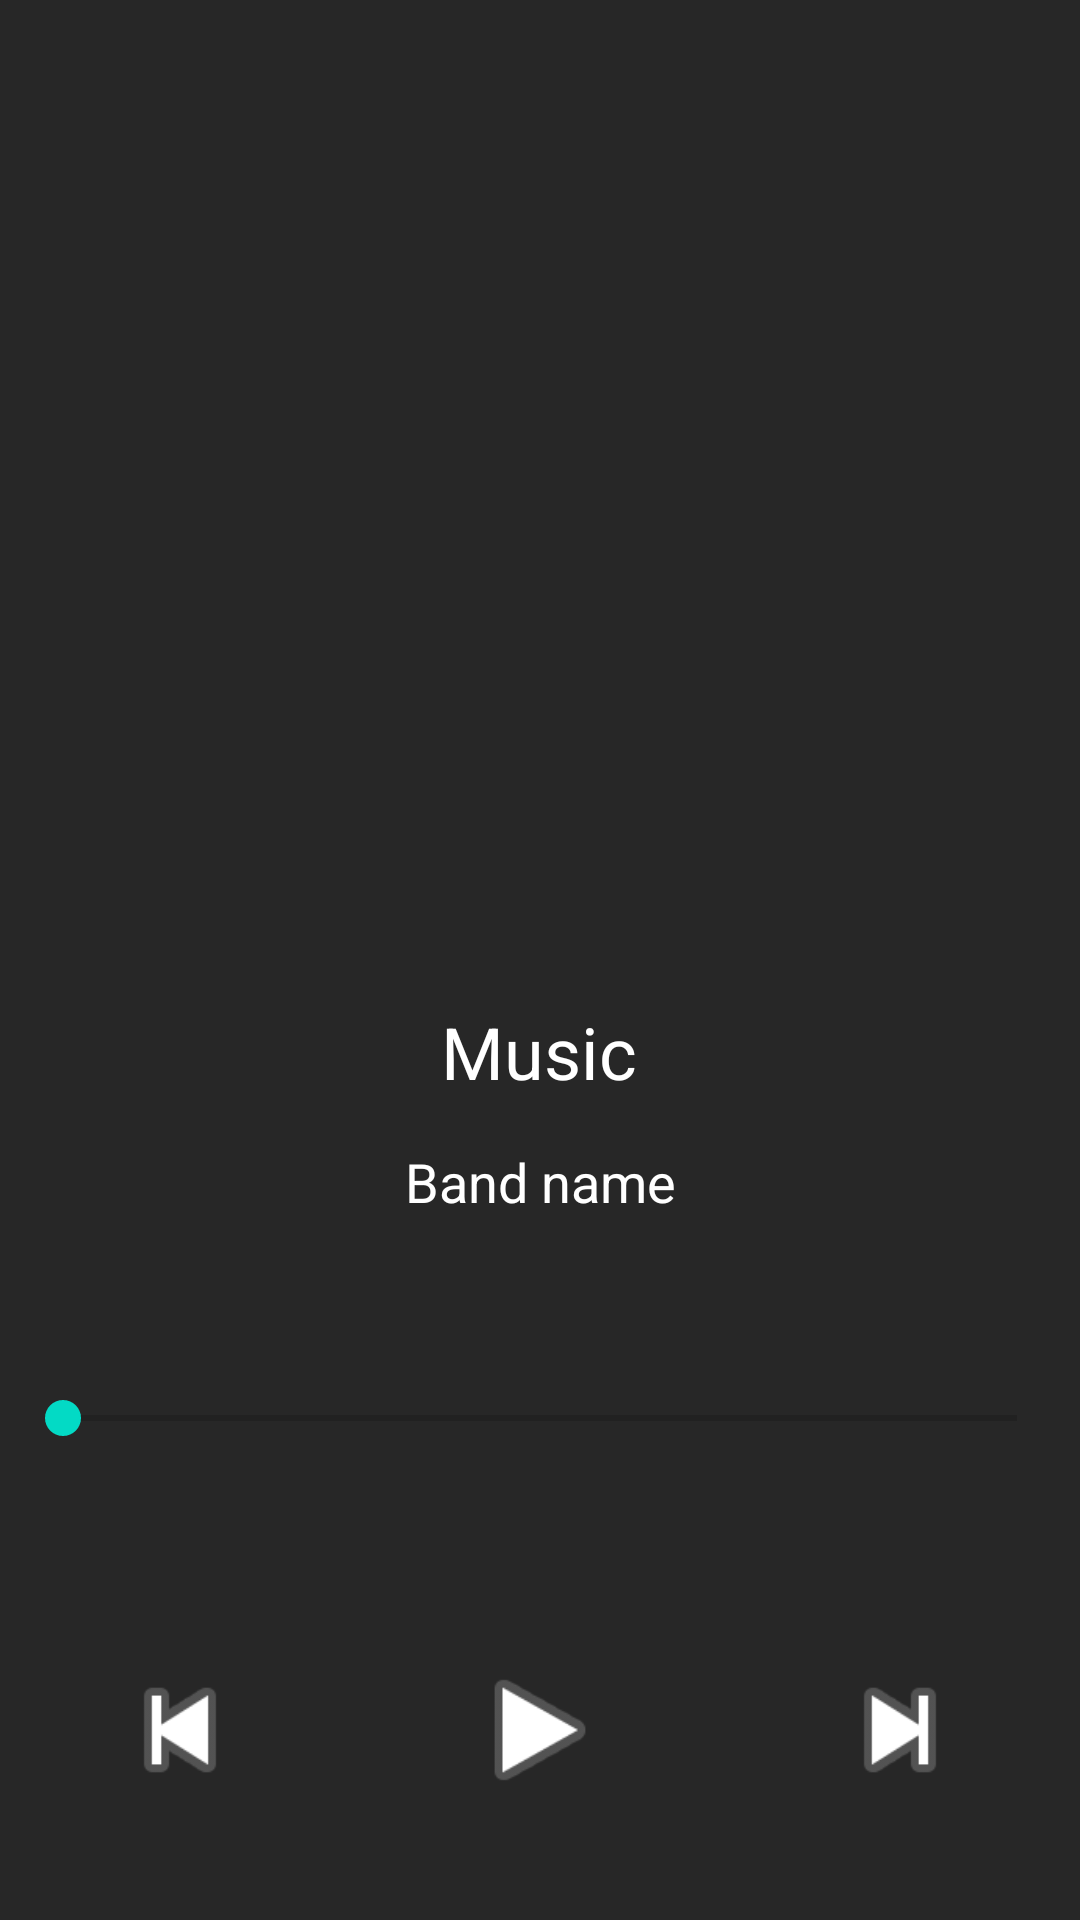

Where to tap for icons on this 1080w x 1920h app screen, as [x,y]:
next: [900,1730]
play: [540,1730]
